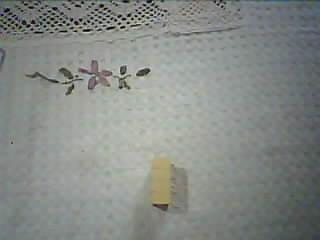lego: (147, 156, 172, 210)
